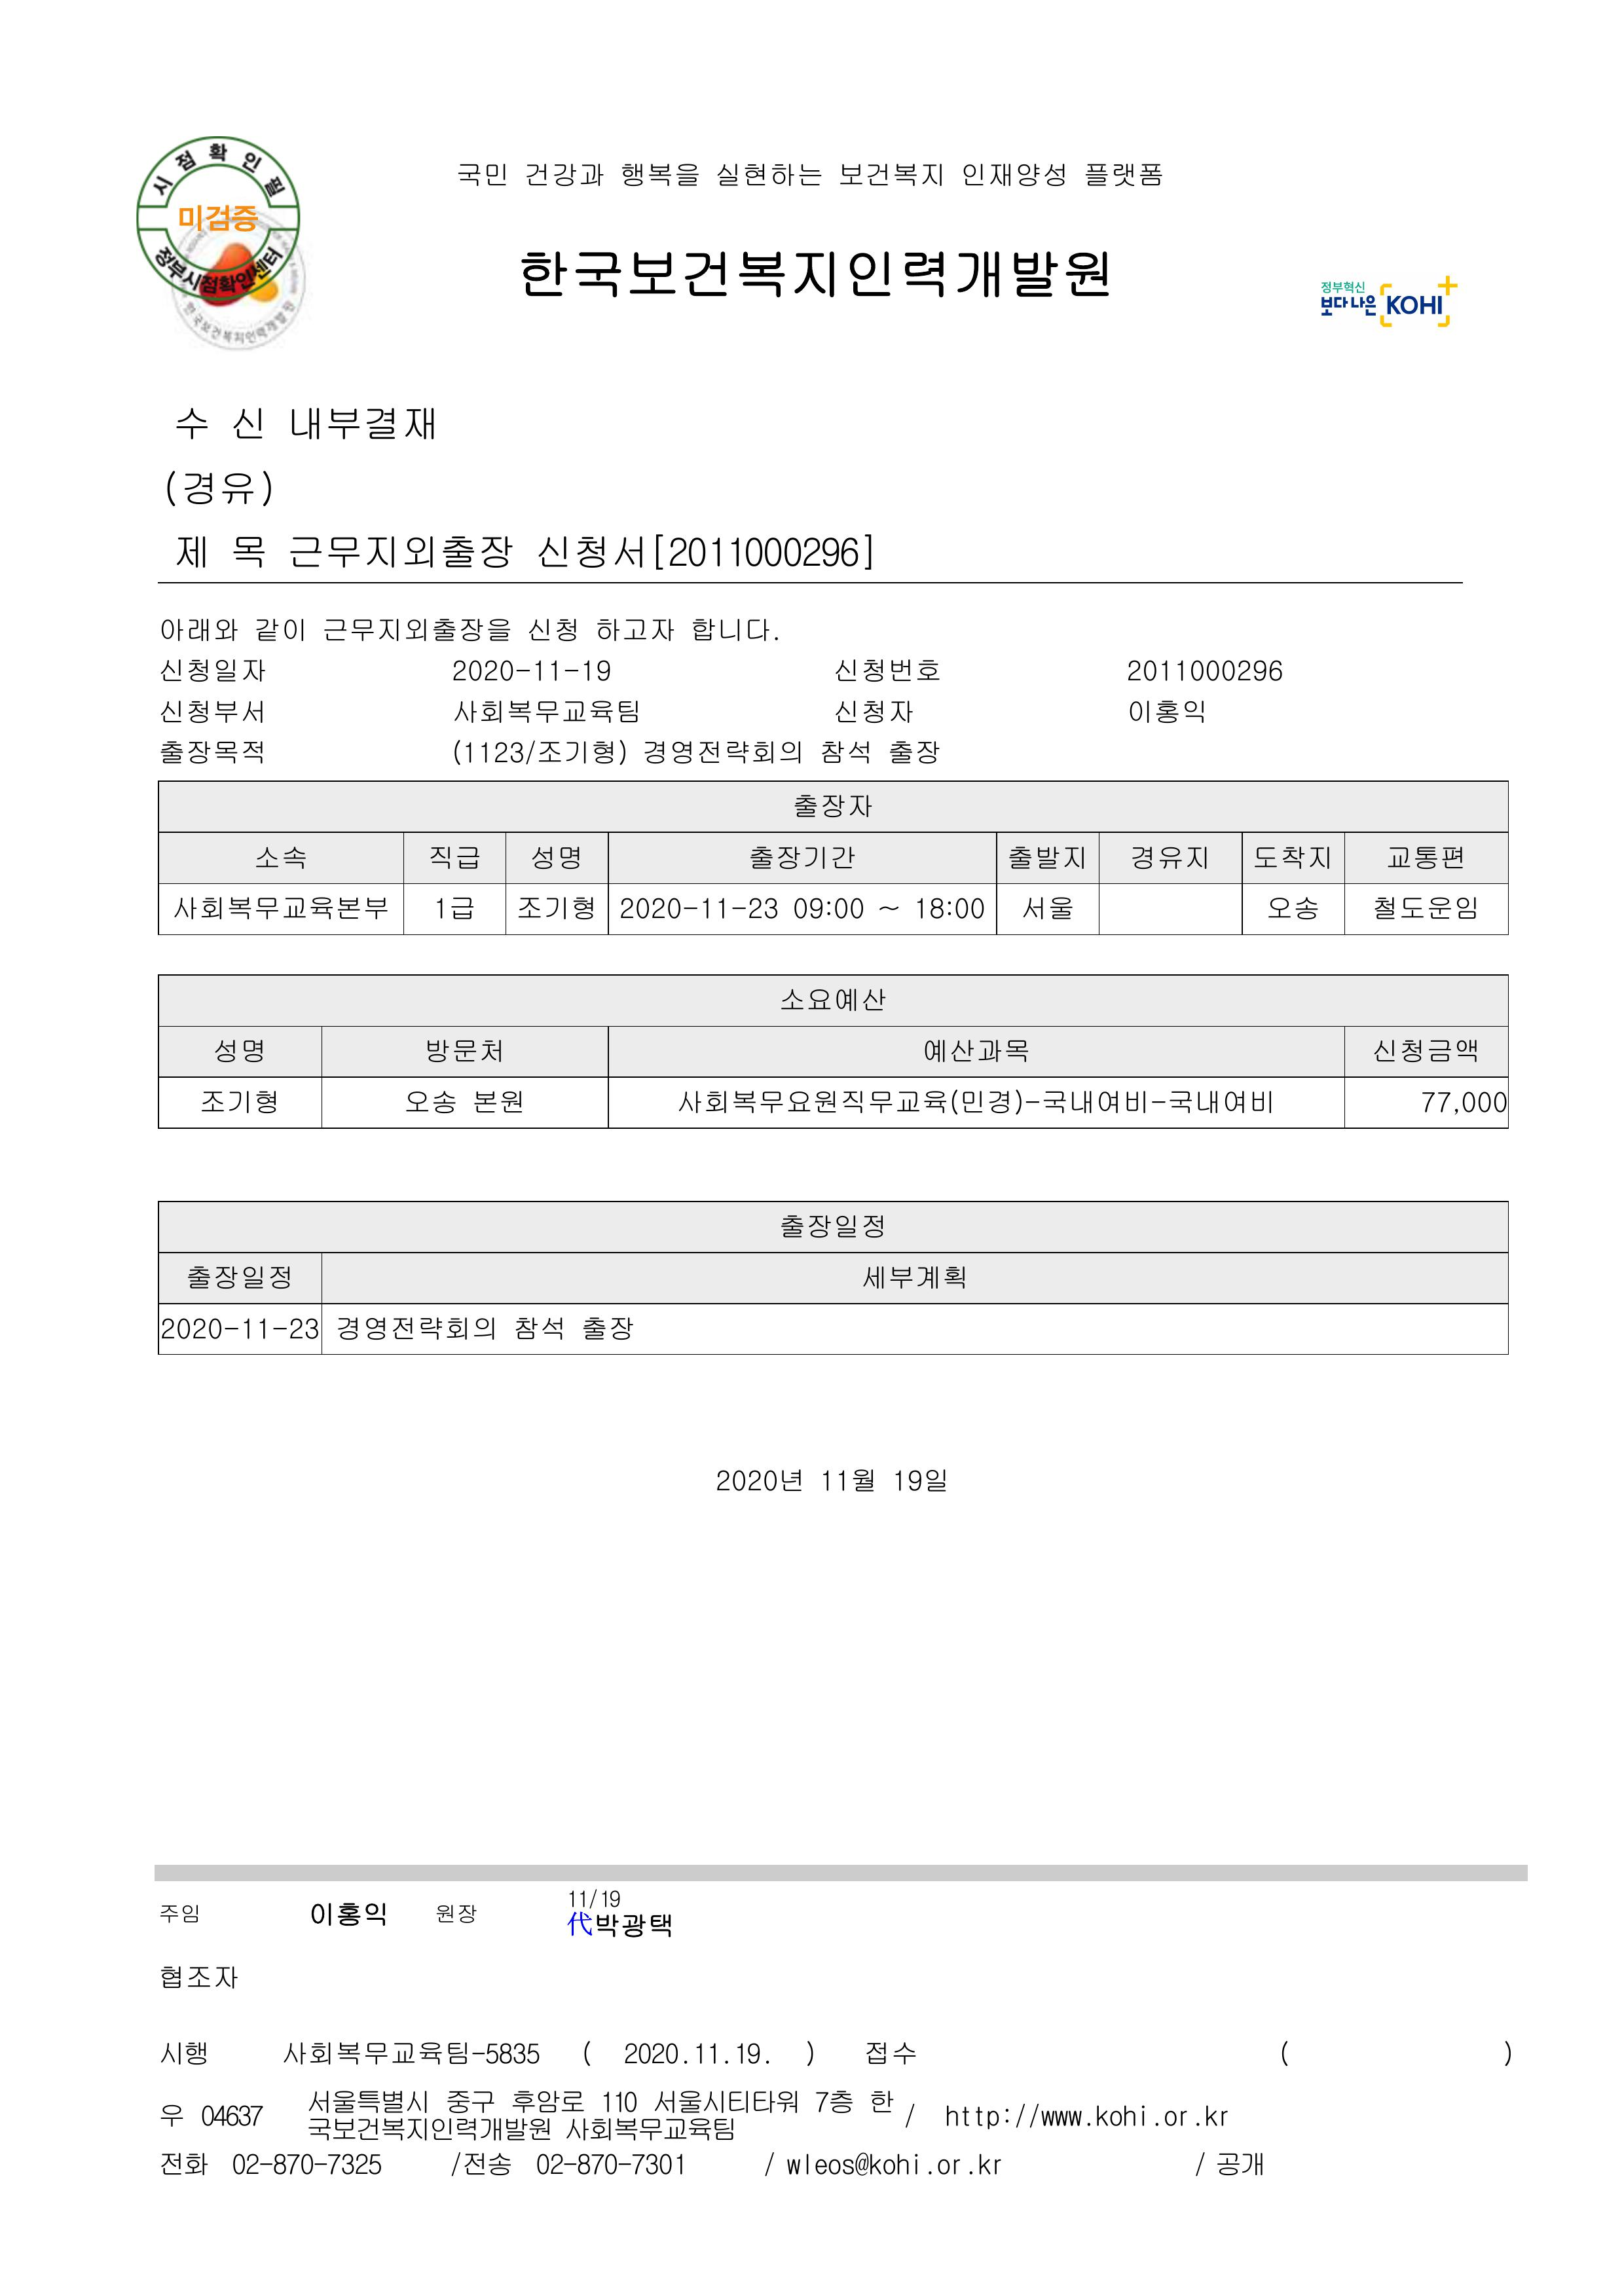t: (517, 244, 1111, 304), (673, 1086, 1272, 1118), (286, 531, 517, 576), (304, 2088, 459, 2147), (534, 531, 731, 576), (279, 2037, 541, 2068), (286, 401, 441, 448), (172, 893, 390, 924), (441, 2088, 552, 2144), (322, 613, 513, 645), (452, 696, 642, 728), (724, 531, 875, 569), (448, 735, 631, 766), (162, 466, 279, 513), (448, 652, 613, 685), (638, 735, 807, 766), (334, 1313, 501, 1344), (427, 842, 584, 875), (649, 2082, 803, 2116), (617, 893, 780, 921), (508, 1313, 634, 1344), (401, 1086, 524, 1118), (714, 156, 824, 190), (835, 156, 946, 190), (745, 842, 856, 875), (562, 1907, 673, 1940), (810, 2147, 924, 2179), (779, 1207, 886, 1241), (186, 1262, 294, 1295), (861, 1262, 968, 1295), (1369, 1033, 1480, 1065), (156, 696, 265, 728), (1369, 893, 1478, 924), (921, 1033, 1028, 1065), (1172, 655, 1283, 685), (831, 655, 939, 685), (162, 655, 265, 685), (780, 986, 889, 1014), (176, 200, 258, 237), (714, 1462, 803, 1495), (520, 156, 606, 190), (982, 156, 1069, 190), (165, 738, 265, 766), (591, 613, 678, 645), (508, 893, 596, 924), (617, 156, 700, 190), (1079, 156, 1162, 190), (1004, 842, 1086, 875), (1125, 842, 1207, 875), (308, 1896, 390, 1929), (789, 789, 875, 821), (689, 613, 773, 645), (1123, 696, 1207, 728), (1383, 842, 1462, 875), (642, 2116, 735, 2144), (831, 696, 914, 728), (156, 1961, 239, 1993), (200, 1086, 279, 1118), (424, 1035, 506, 1065), (1251, 842, 1330, 872), (789, 893, 868, 921), (620, 2037, 691, 2068), (691, 2040, 766, 2068), (508, 2088, 584, 2116), (814, 735, 879, 766), (448, 2147, 513, 2179), (889, 1462, 951, 1495), (322, 2147, 383, 2179), (627, 2147, 689, 2179), (817, 1462, 875, 1495), (162, 1316, 237, 1341), (156, 613, 214, 645), (1380, 290, 1445, 318), (251, 613, 308, 645), (524, 613, 580, 645), (882, 735, 939, 766), (431, 893, 487, 924), (861, 2037, 917, 2068), (914, 896, 986, 921), (211, 1035, 269, 1065), (1018, 893, 1072, 924), (1265, 893, 1320, 924), (156, 2037, 211, 2068), (156, 2147, 211, 2179), (946, 2105, 1014, 2130), (251, 842, 308, 872), (269, 2147, 322, 2179), (1213, 2147, 1265, 2179), (172, 534, 214, 573), (1455, 1086, 1510, 1116), (562, 2112, 613, 2144), (200, 2105, 265, 2130), (573, 2147, 620, 2179), (1320, 293, 1378, 318), (176, 404, 214, 441), (227, 404, 265, 441), (1028, 2105, 1086, 2130), (1093, 2105, 1151, 2130), (228, 534, 269, 569), (199, 276, 255, 299), (810, 2088, 856, 2116), (1125, 659, 1172, 685), (459, 165, 508, 190), (603, 2089, 642, 2116), (228, 2147, 262, 2177), (534, 2147, 566, 2177), (863, 2088, 896, 2116), (434, 1905, 480, 1924), (286, 1316, 322, 1341), (1420, 1090, 1452, 1116), (162, 1905, 200, 1924), (935, 2154, 965, 2179), (239, 1320, 272, 1341), (214, 617, 239, 645), (975, 2154, 1004, 2179), (1200, 2109, 1230, 2130), (961, 165, 986, 190), (1162, 2109, 1190, 2130), (599, 1889, 624, 1912), (162, 2105, 186, 2126), (617, 2116, 638, 2140), (786, 2158, 807, 2179)
